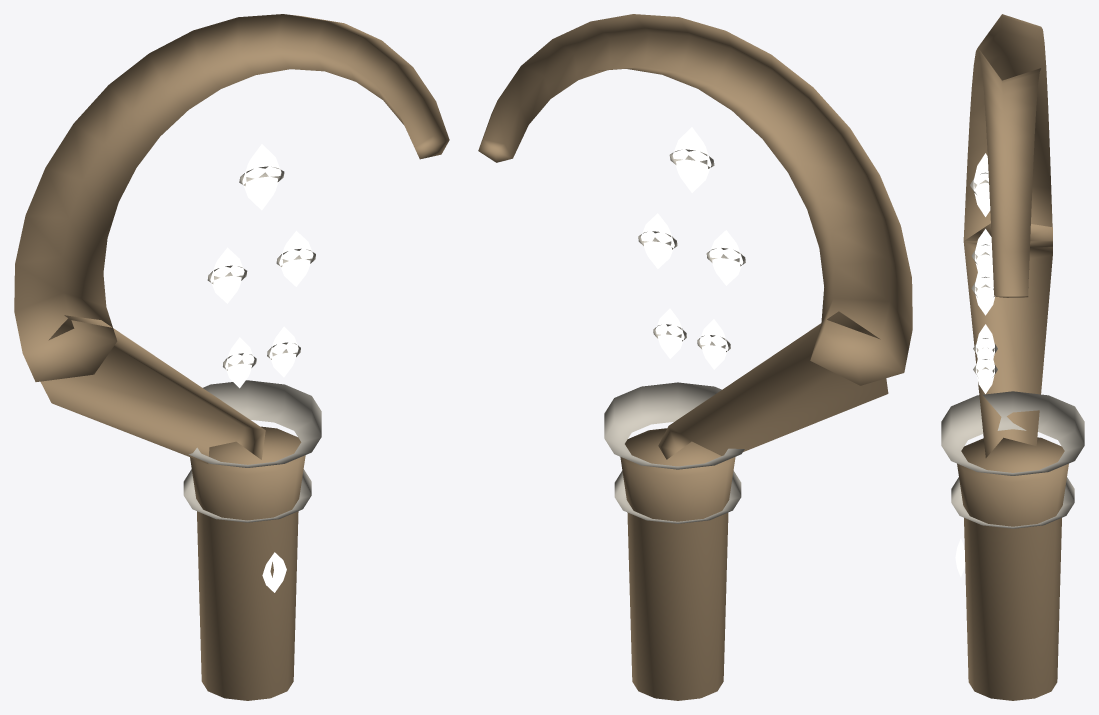
Rendered from head_primordial.glb.
3 views of the same model, side by side, from view 1: azimuth 30°, elevation 25°; view 2: azimuth 150°, elevation 25°; view 3: azimuth 270°, elevation 25° (orthographic). The views are drawn at different scales.
Parts seen in each view (by area): view 1: head_primordial; view 2: head_primordial; view 3: head_primordial.
Part boxes in pixels (left/top/right/bottom): head_primordial: left=14, top=14, right=449, bottom=700; head_primordial: left=478, top=14, right=912, bottom=700; head_primordial: left=941, top=14, right=1084, bottom=700.
Size of the model in its own units: 0.348 by 0.5165 by 0.1044.
